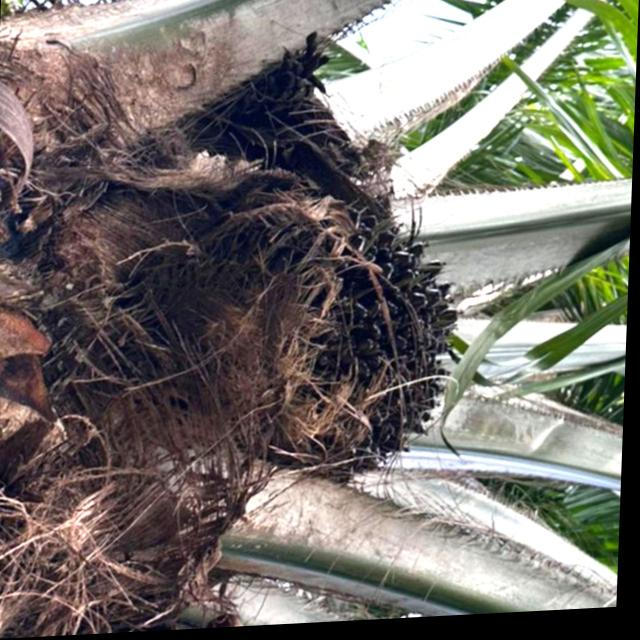almost: (169, 182, 485, 507)
